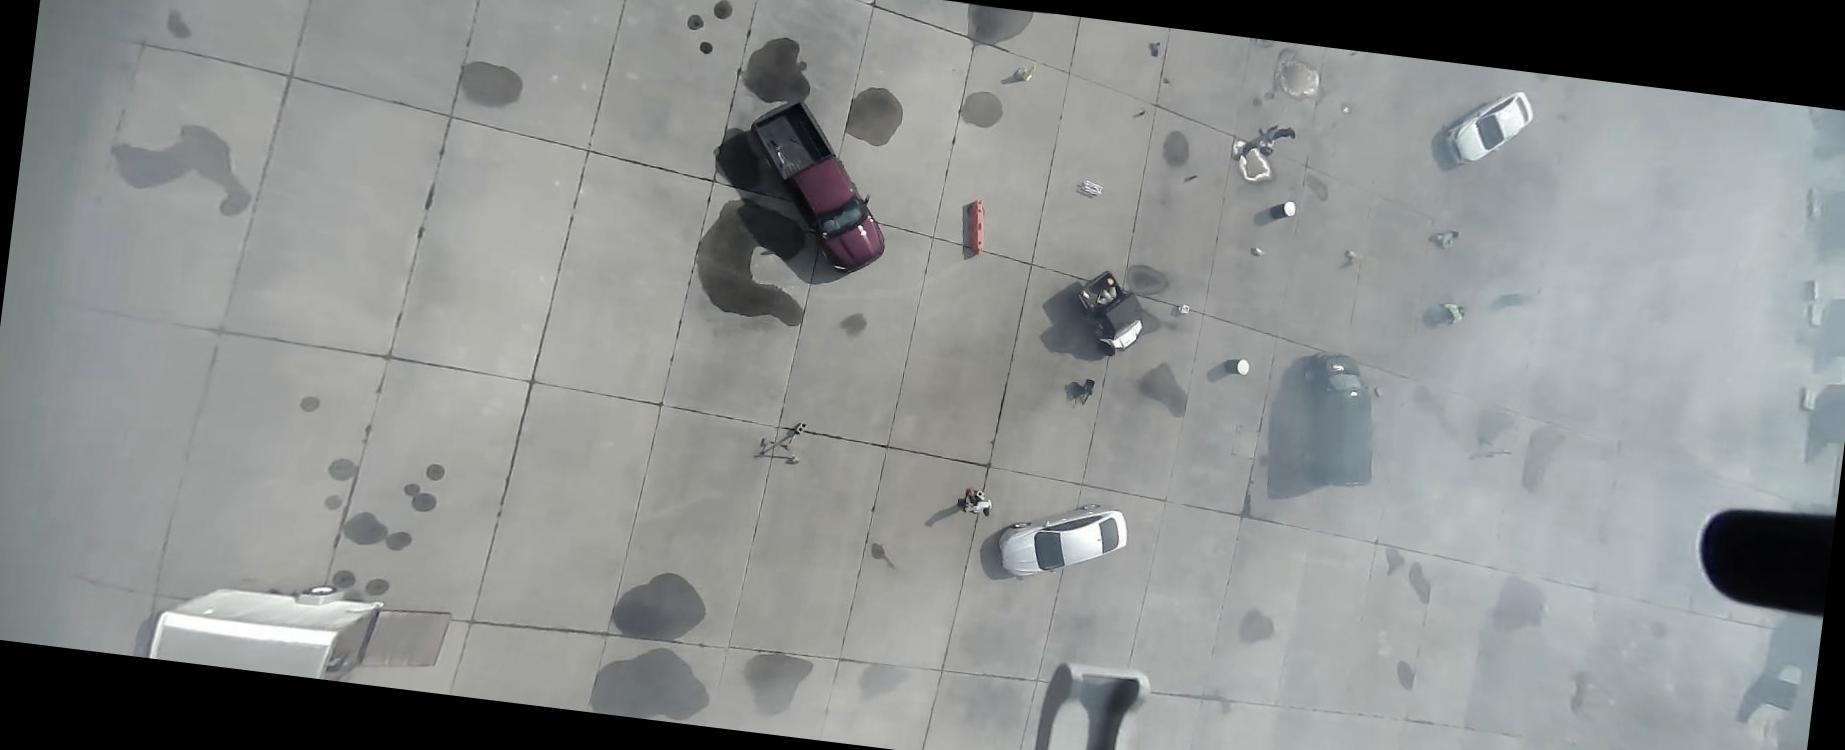vehicle: (732, 93, 901, 277), (993, 491, 1131, 589), (1290, 350, 1384, 491), (1440, 82, 1536, 174), (1065, 266, 1148, 361)
